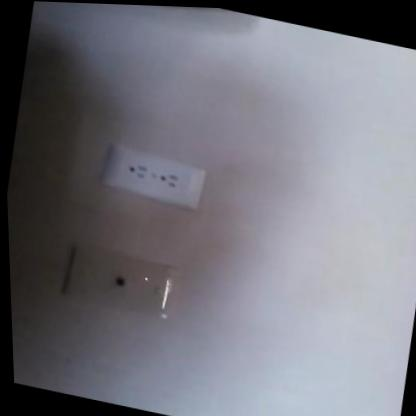OUTLET: (102, 142, 206, 209)
